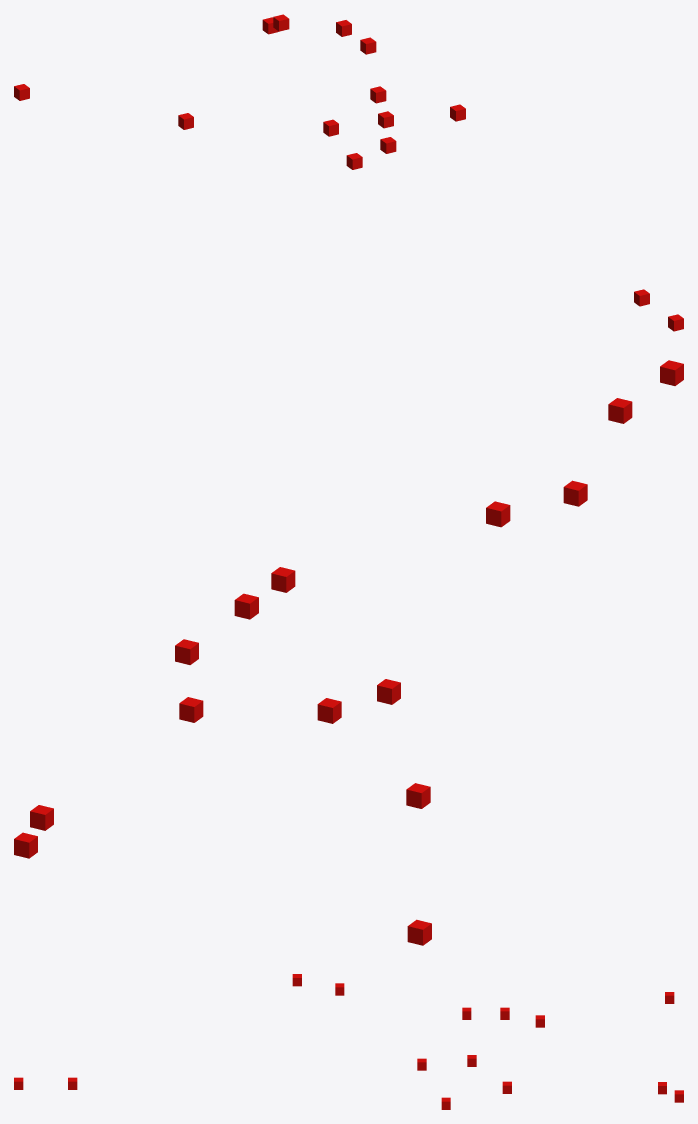
File: snapPoints.glb
3 renders of one model, top to bottom at view 1: azimuth 30°, elevation 25°; view 2: azimuth 150°, elevation 25°; view 3: azimuth 270°, elevation 25°, orthographic. The views are drawn at different scales.
Size of the model in its own units: 15.1 by 4.6 by 36.21.
